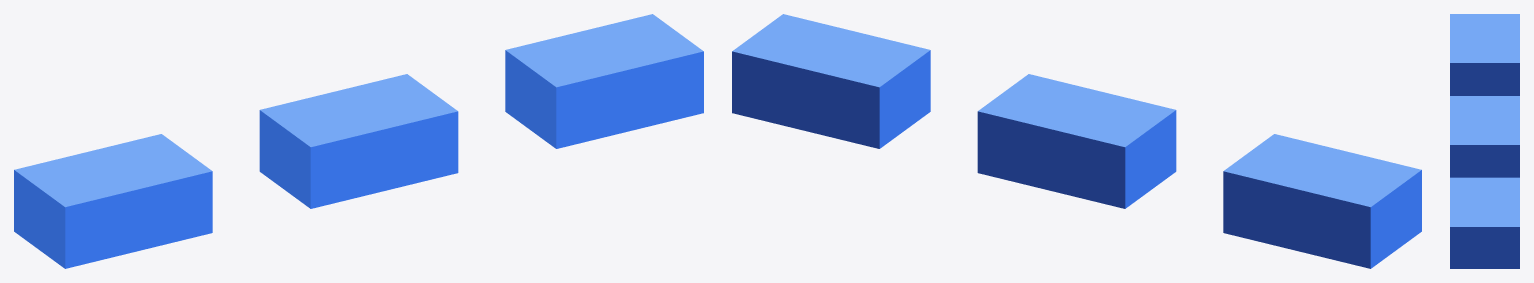
Rendered from Link_DashH.gltf.
The picture shows the model from 3 angles, left to right: view 1: azimuth 30°, elevation 25°; view 2: azimuth 150°, elevation 25°; view 3: azimuth 270°, elevation 25°; orthographic projection. The views are drawn at different scales.
Visible parts, largest first — view 1: Link_DashH_baked; view 2: Link_DashH_baked; view 3: Link_DashH_baked.
Boxes of the visible parts, x1=… form: Link_DashH_baked: x1=14, y1=14, x2=703, y2=268; Link_DashH_baked: x1=732, y1=14, x2=1421, y2=268; Link_DashH_baked: x1=1450, y1=14, x2=1519, y2=268.
Size of the model in its own units: 0.866 by 0.08 by 0.12.
